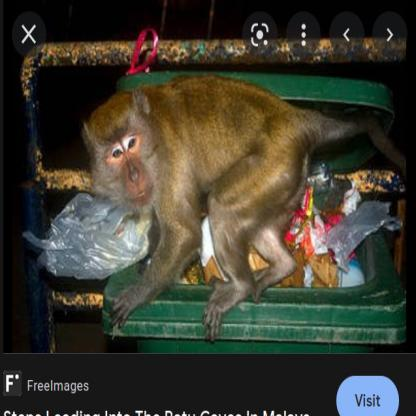monkey: (79, 72, 328, 344)
